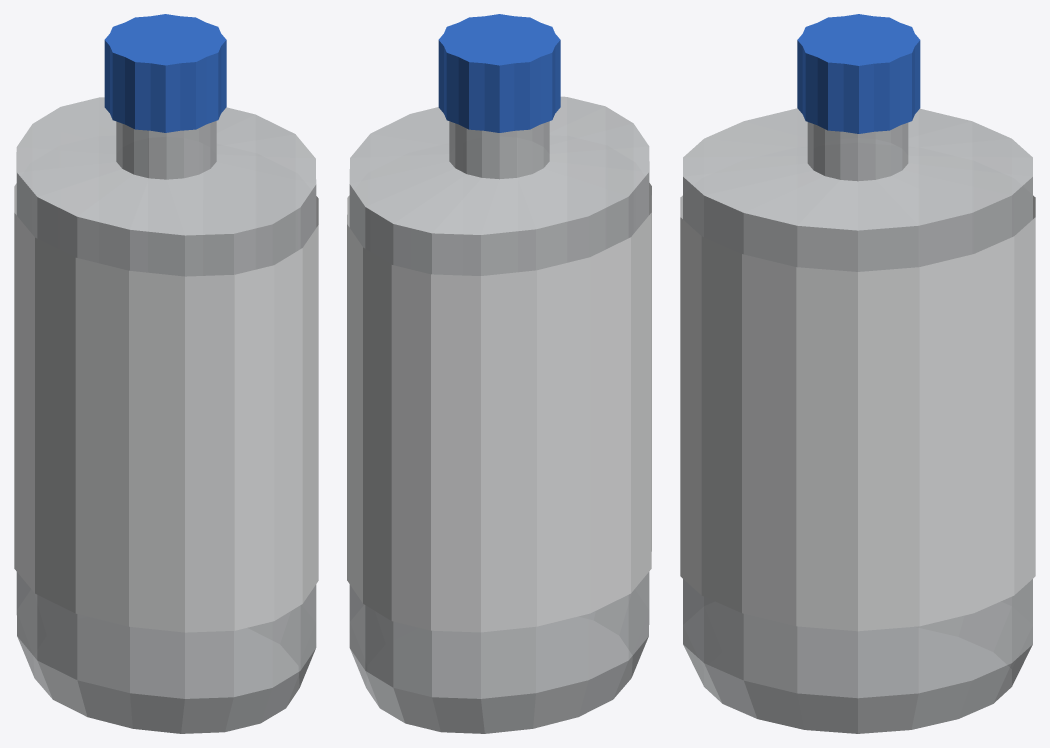
File: cartucho.fbx
3 renders of one model, left to right at view 1: azimuth 30°, elevation 25°; view 2: azimuth 150°, elevation 25°; view 3: azimuth 270°, elevation 25°, orthographic.
Visible parts, largest first — view 1: Garrafa_Rotulo.001, Garrafa_Corpo.001, Tampa_Principal.001; view 2: Garrafa_Rotulo.001, Garrafa_Corpo.001, Tampa_Principal.001; view 3: Garrafa_Rotulo.001, Garrafa_Corpo.001, Tampa_Principal.001.
Part boxes in pixels (<box>): Garrafa_Rotulo.001: <box>14,183,318,632</box>; Garrafa_Corpo.001: <box>16,97,316,733</box>; Tampa_Principal.001: <box>104,14,226,132</box>; Garrafa_Rotulo.001: <box>347,183,651,632</box>; Garrafa_Corpo.001: <box>349,96,649,733</box>; Tampa_Principal.001: <box>438,14,560,132</box>; Garrafa_Rotulo.001: <box>680,195,1035,631</box>; Garrafa_Corpo.001: <box>683,108,1032,733</box>; Tampa_Principal.001: <box>797,14,920,133</box>.
Size of the model in its own units: 0.0896 by 0.206 by 0.104.
